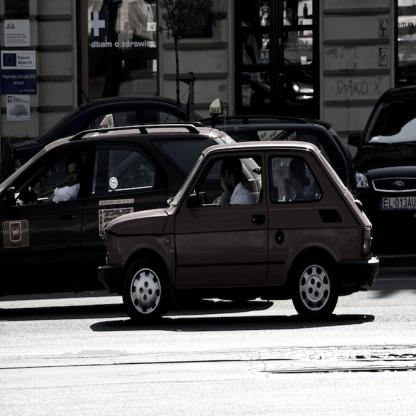Car: (0, 65, 416, 319)
